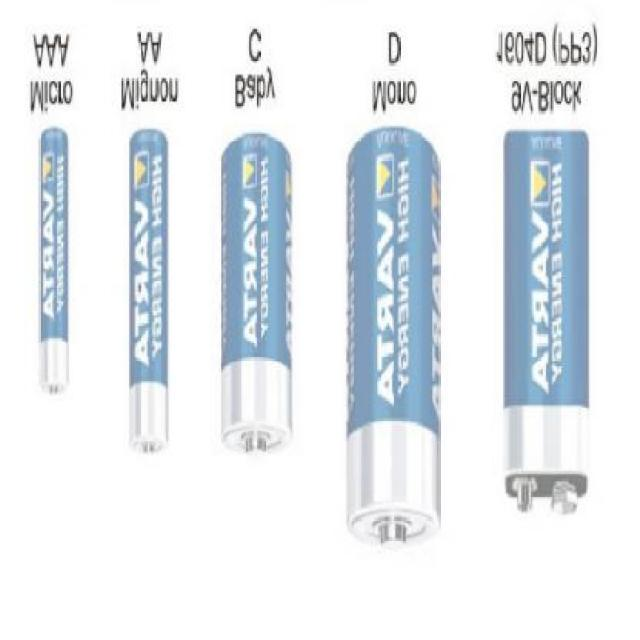hazardous waste: (338, 112, 448, 554), (209, 132, 305, 465), (120, 122, 176, 460), (34, 110, 89, 408)
